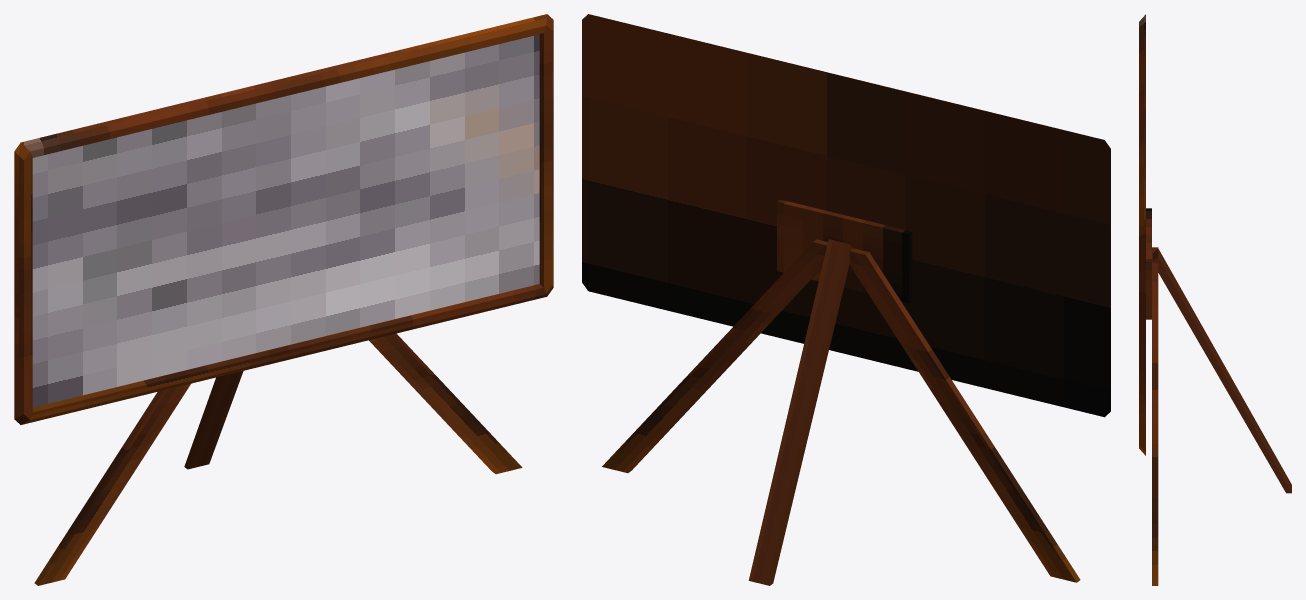
The model's file is BoardWood.fbx.
3 renders of one model, left to right at view 1: azimuth 30°, elevation 25°; view 2: azimuth 150°, elevation 25°; view 3: azimuth 270°, elevation 25°, orthographic. The views are drawn at different scales.
Parts seen in each view (by area): view 1: BoardWood; view 2: BoardWood; view 3: BoardWood.
Part boxes in pixels (<box>): BoardWood: <box>14,14,553,585</box>; BoardWood: <box>582,14,1110,585</box>; BoardWood: <box>1139,14,1291,585</box>.
Size of the model in its own units: 1442 by 1153 by 432.
